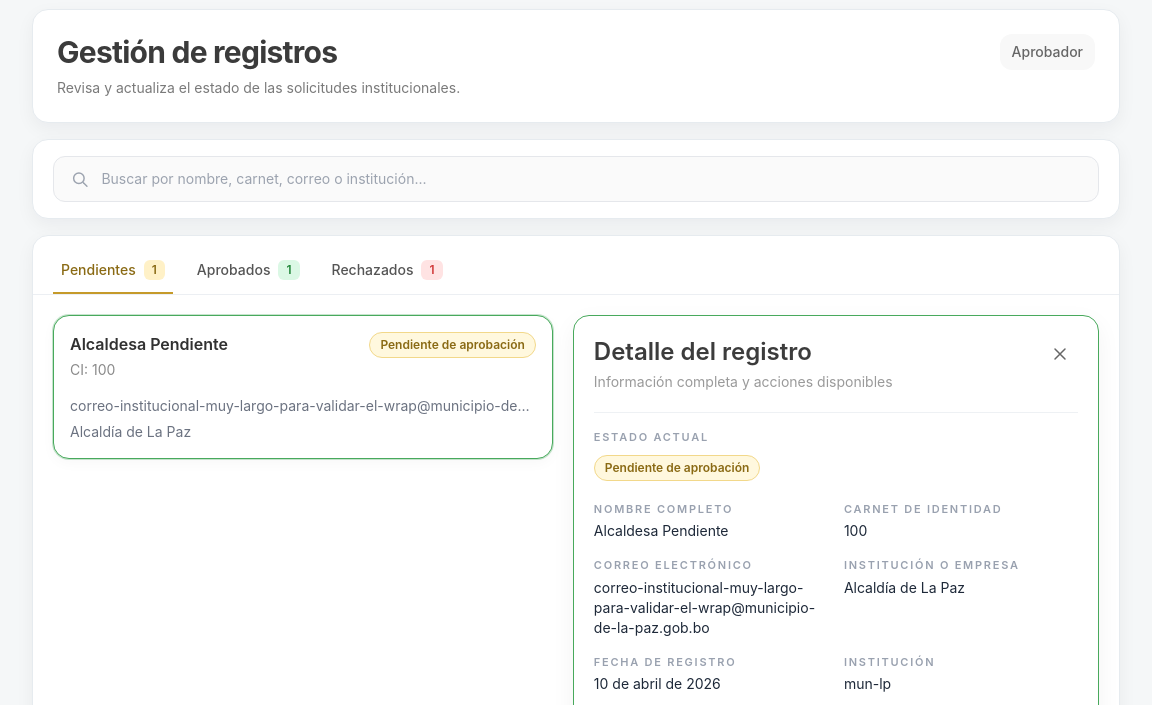
Scenario: MX-10 | aprobaciones de acceso territorial › [MX-10][CON-ACC-P0-002][INTEGRACION] abre una solicitud pendiente, la aprueba y confirma su actualización visible
Click the button "Alcaldesa Pendiente" at (149, 344), box x1=53 y1=315 x2=553 y2=459
(page scrolled)
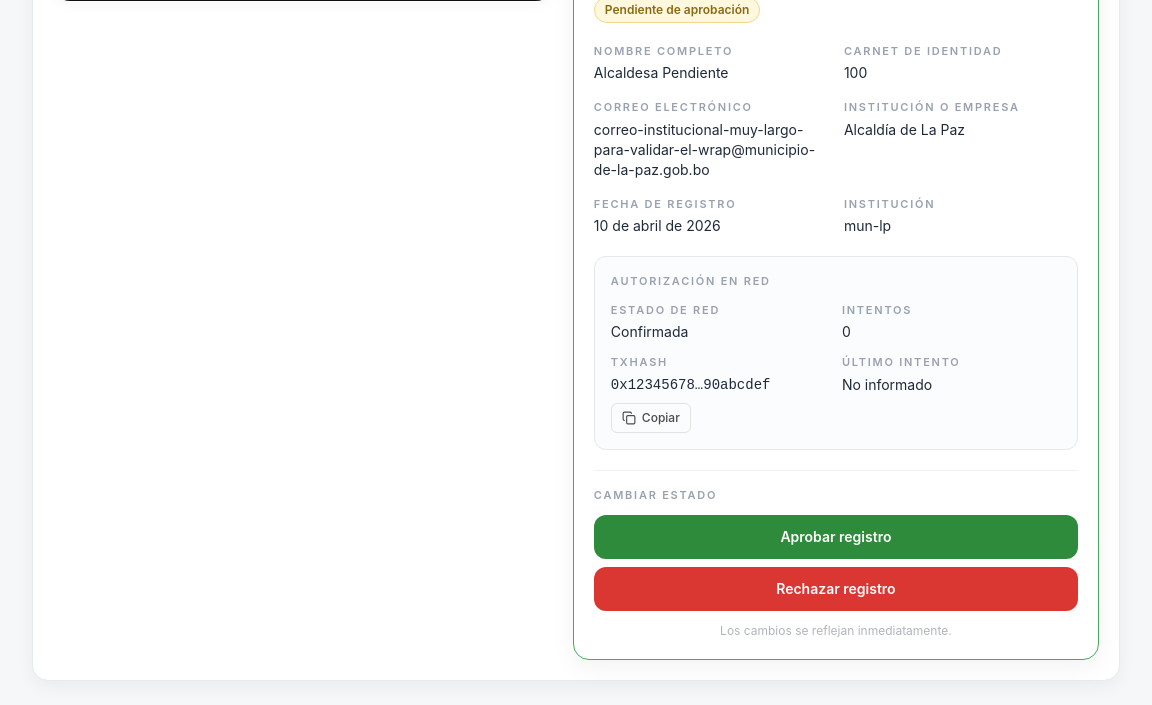
Click the button "Aprobar registro" at (836, 537), box x1=594 y1=515 x2=1078 y2=559
(page scrolled)
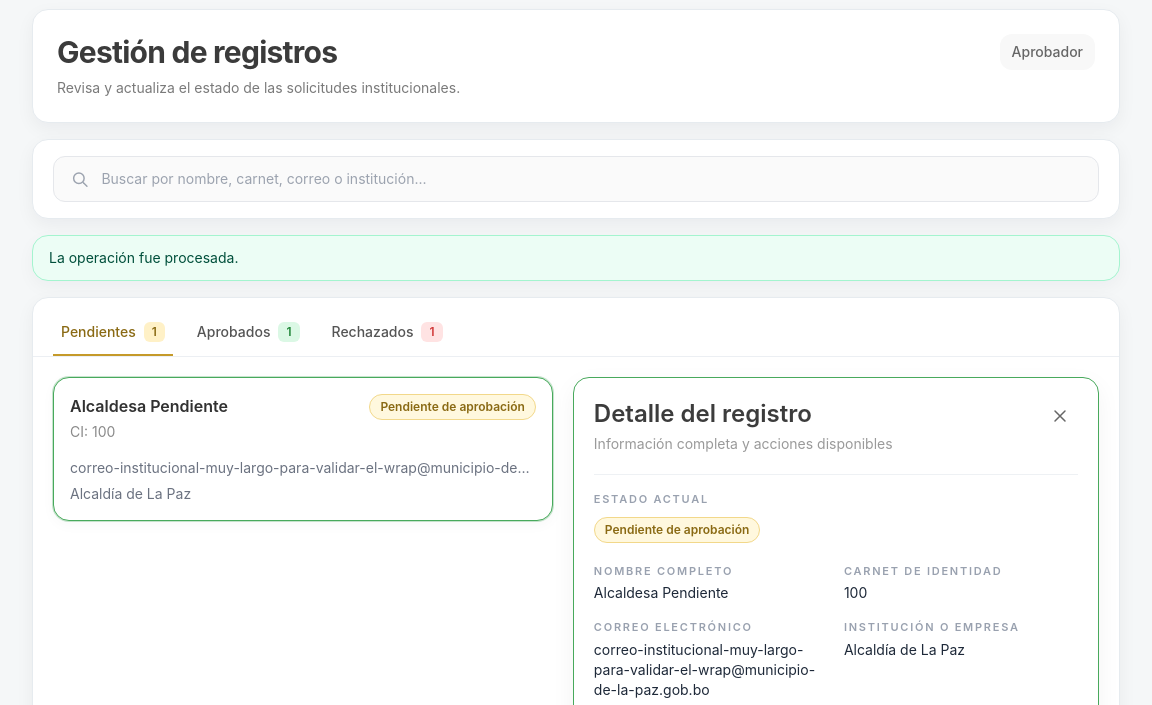
expect the text "La operación fue procesada." is shown: met, box x1=32 y1=235 x2=1120 y2=281
